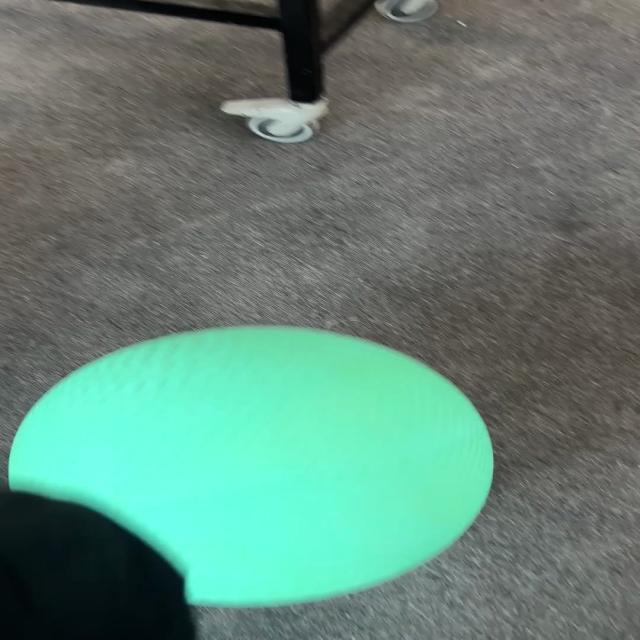Algae: (7, 324, 496, 608)
